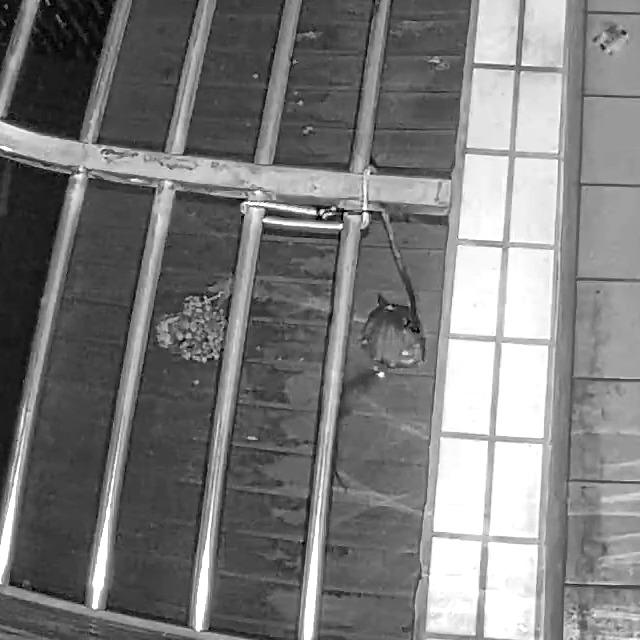rat: (327, 363, 390, 492)
